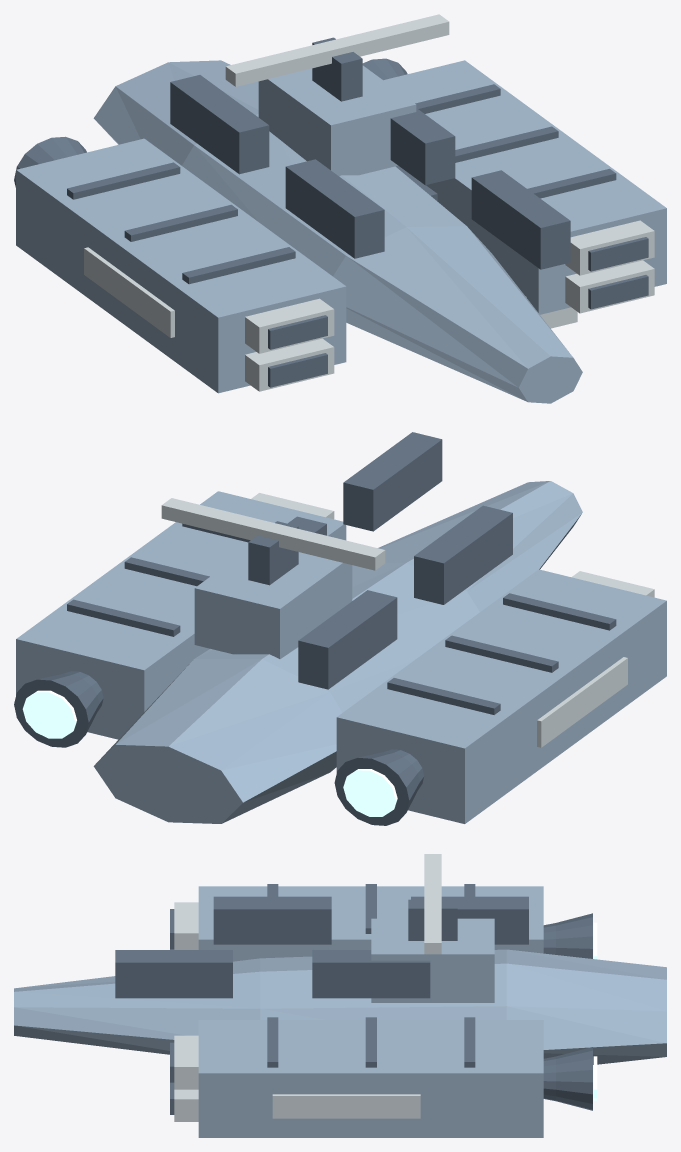
The picture shows the model from 3 angles, top to bottom: view 1: azimuth 30°, elevation 25°; view 2: azimuth 150°, elevation 25°; view 3: azimuth 270°, elevation 25°; orthographic projection. The views are drawn at different scales.
Size of the model in its own units: 9.17 by 4.12 by 13.29.
